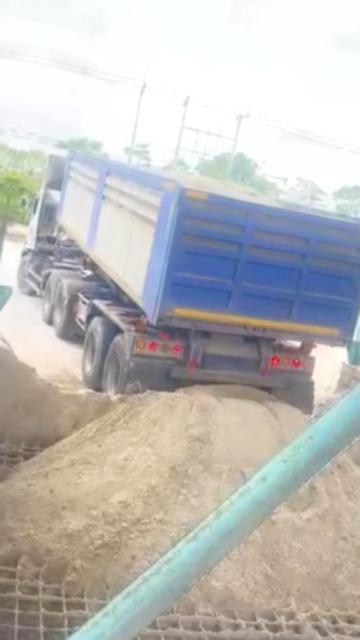sand: (0, 387, 306, 593), (190, 459, 360, 609), (0, 337, 113, 447), (147, 169, 279, 207), (315, 343, 360, 417), (349, 410, 360, 483)
